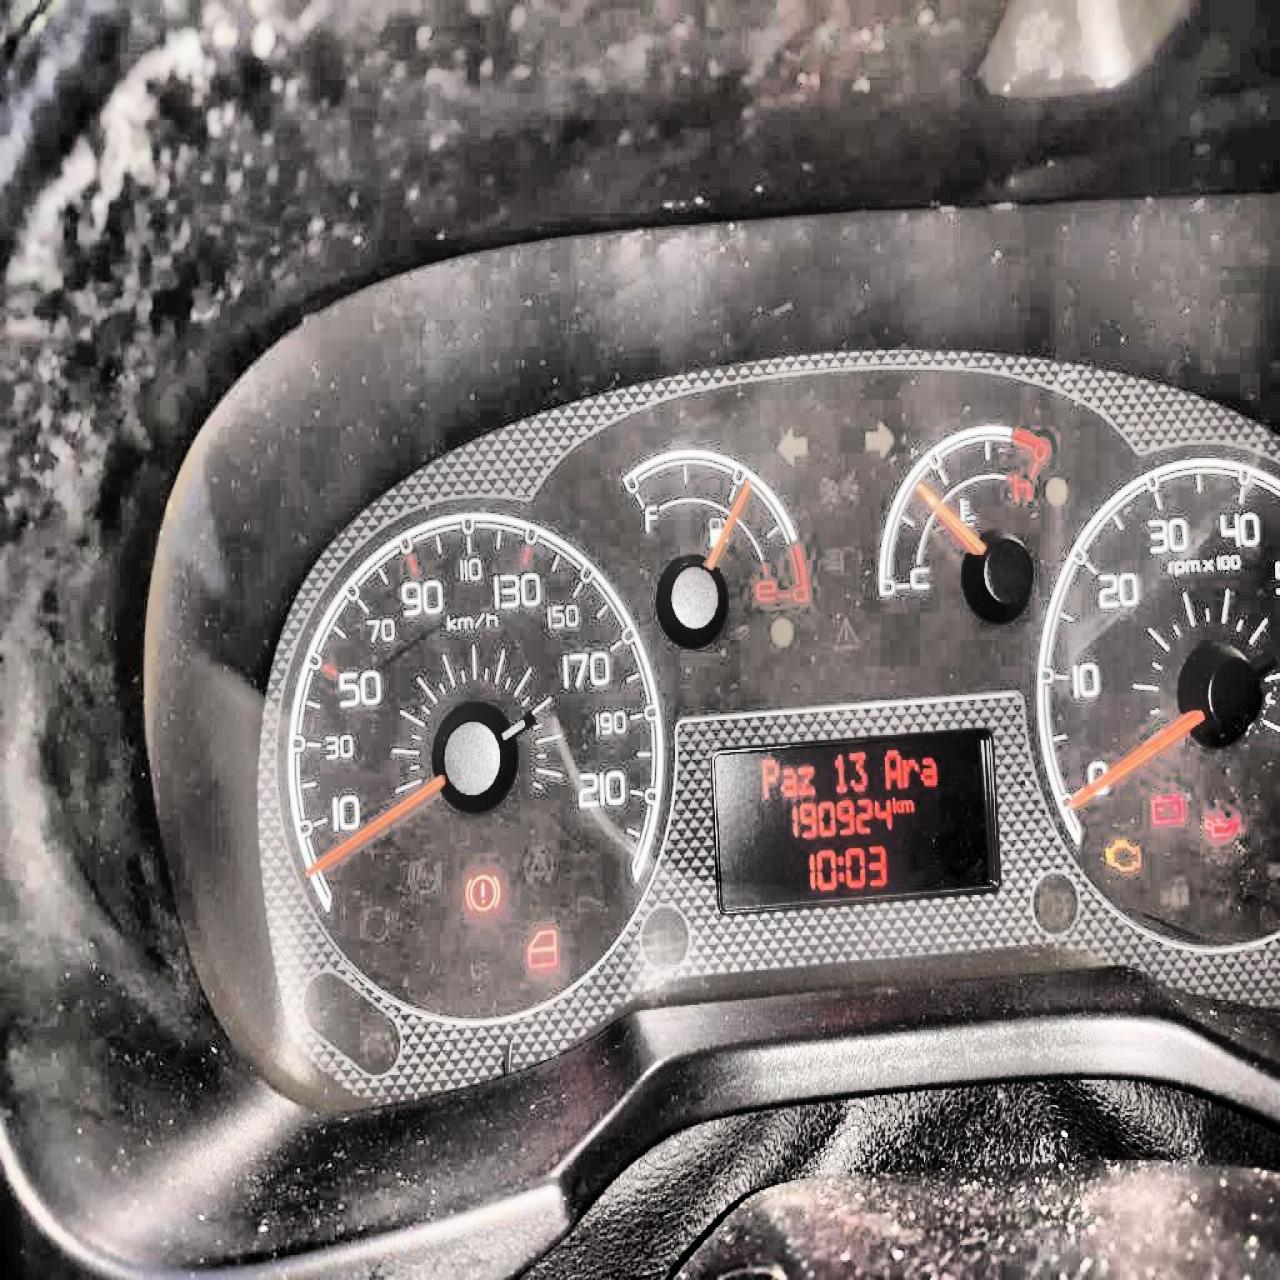0: (815, 846, 835, 892), (845, 845, 865, 888), (816, 799, 835, 835)
1: (832, 750, 847, 791), (806, 849, 815, 892), (790, 802, 799, 838)
2: (855, 797, 871, 833)
3: (867, 842, 887, 888), (847, 748, 867, 791)
4: (872, 797, 890, 830)
9: (835, 798, 855, 833), (799, 799, 815, 838)
X: (883, 745, 901, 790), (758, 755, 777, 798), (920, 754, 938, 787), (779, 764, 796, 798), (797, 765, 815, 795), (901, 754, 918, 784), (836, 852, 844, 884), (900, 798, 914, 812), (891, 794, 900, 813)
odometer: (708, 726, 1002, 917)
